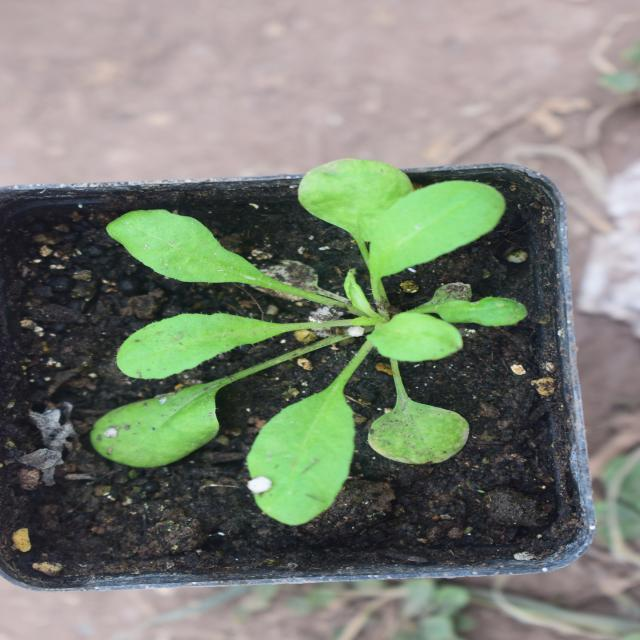Shepherd_Purse: (148, 101, 467, 485)
